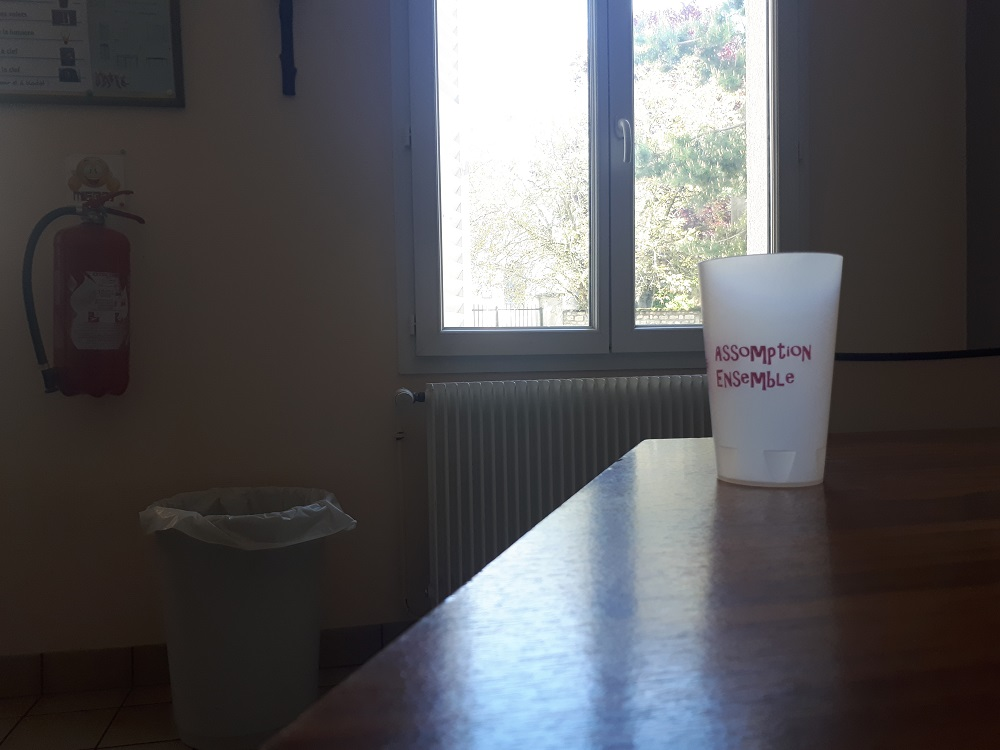ecocup: (693, 250, 847, 496)
